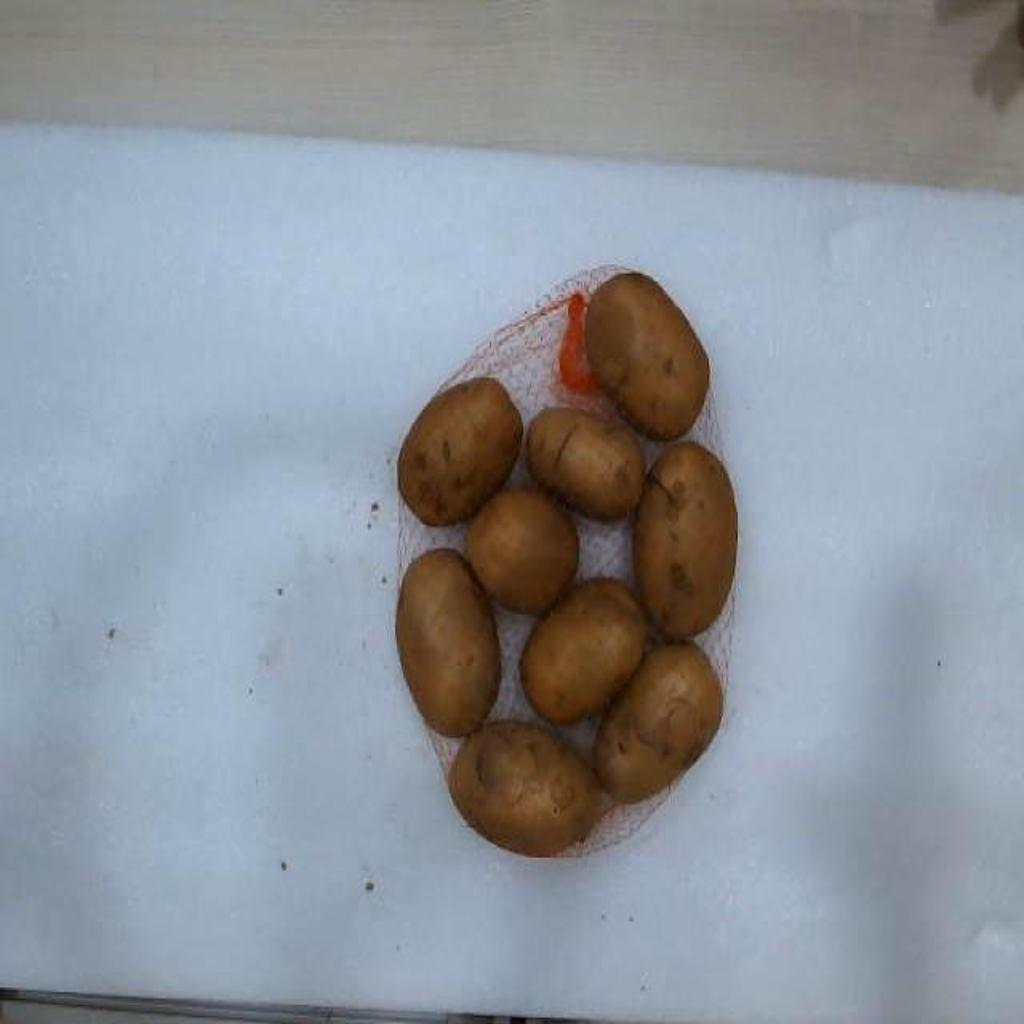potato: (450, 720, 602, 856), (586, 275, 710, 439), (634, 443, 738, 637), (594, 643, 720, 803), (520, 579, 648, 724), (400, 552, 500, 736), (398, 379, 522, 525), (466, 491, 578, 615), (526, 408, 644, 519)
